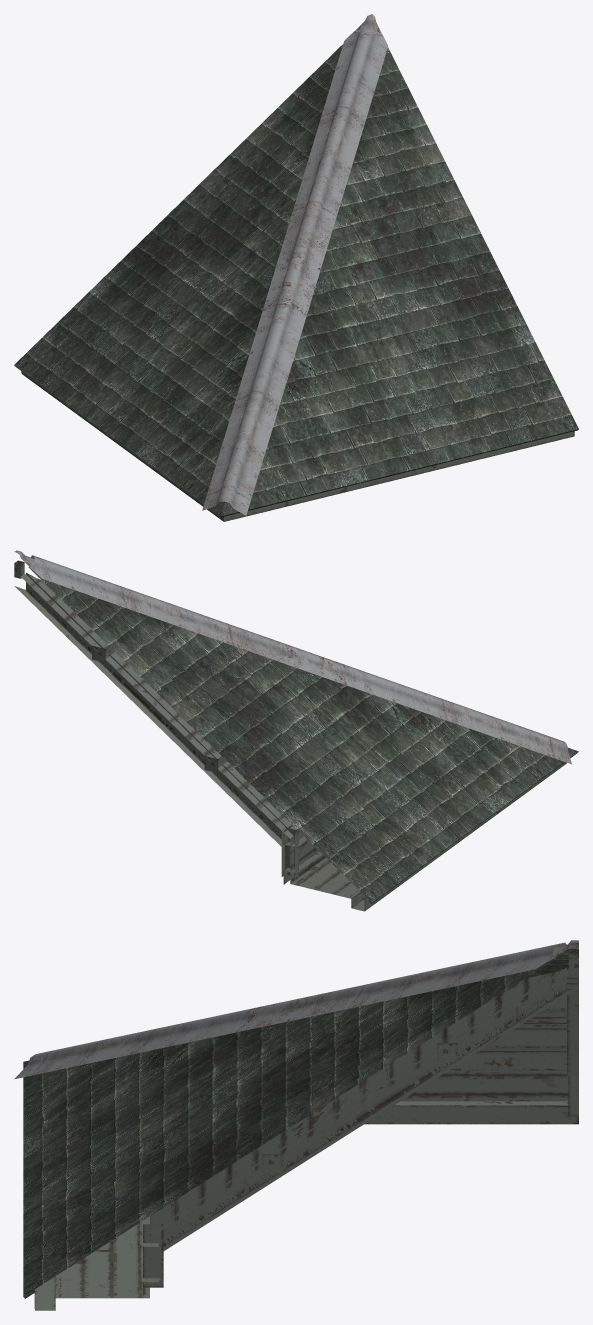
The model's file is SM_Roof400x400Corner.FBX.
3 renders of one model, top to bottom at view 1: azimuth 30°, elevation 25°; view 2: azimuth 150°, elevation 25°; view 3: azimuth 270°, elevation 25°, orthographic. The views are drawn at different scales.
Visible parts, largest first — view 1: SM_Roof400x400Corner; view 2: SM_Roof400x400Corner; view 3: SM_Roof400x400Corner.
Part boxes in pixels (<box>): SM_Roof400x400Corner: <box>14,14,578,521</box>; SM_Roof400x400Corner: <box>14,550,578,911</box>; SM_Roof400x400Corner: <box>14,940,578,1310</box>.
Bounding box in the file's own units: 506 × 364 × 506.
